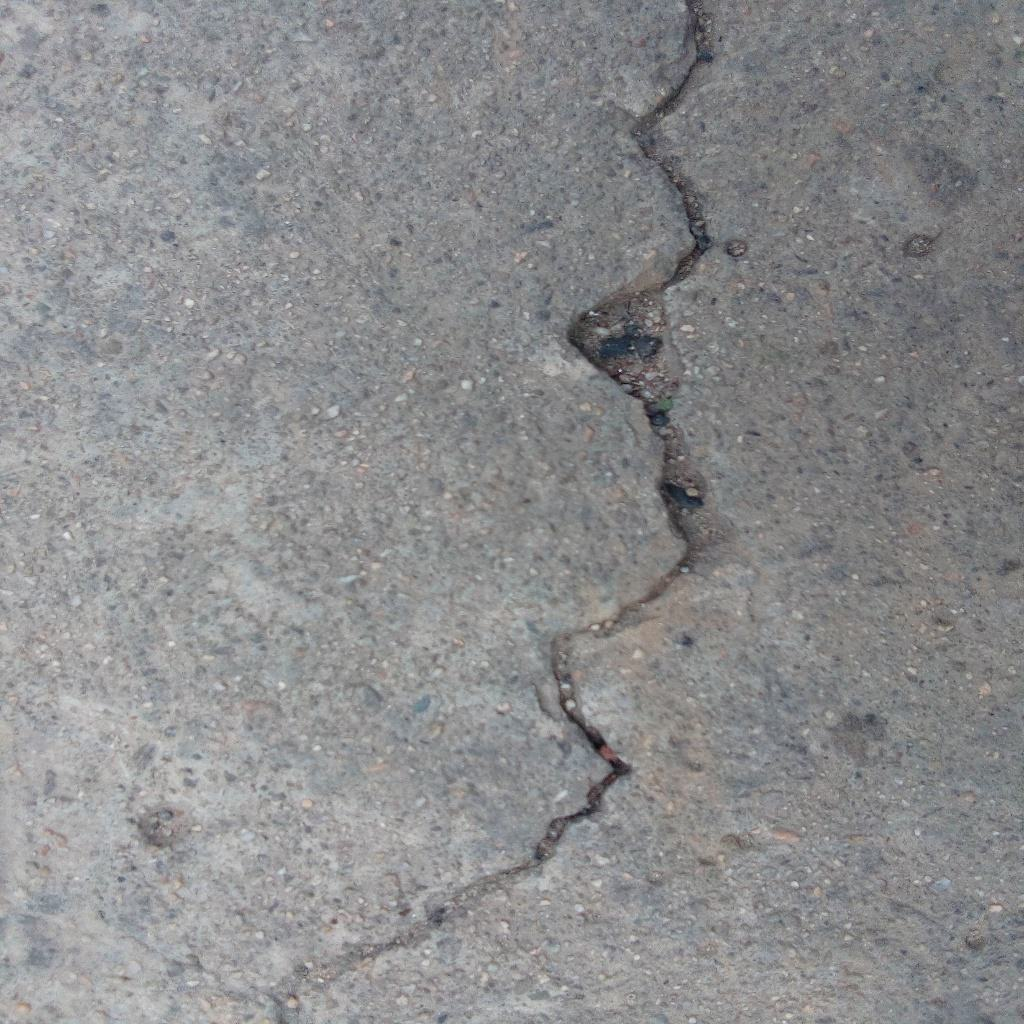Crack: (271, 1, 734, 1024)
